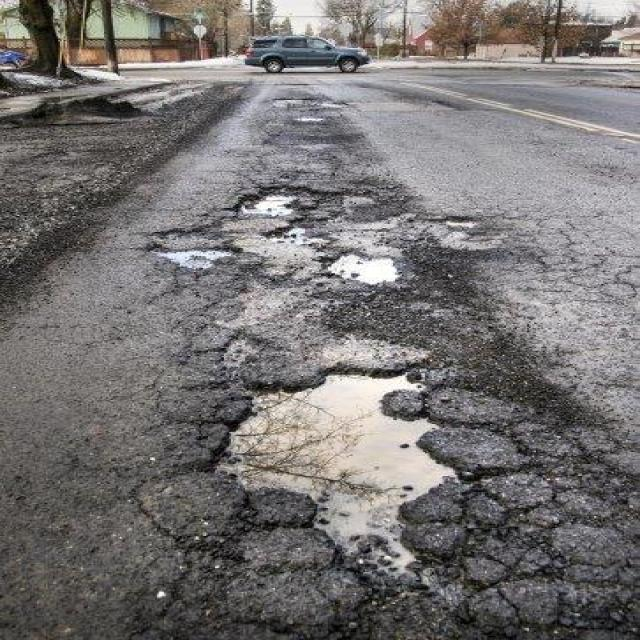jalan retak: (448, 391, 640, 636), (420, 183, 640, 319)
lubang: (138, 342, 630, 638), (215, 169, 404, 230), (314, 238, 441, 308), (137, 218, 266, 286), (424, 196, 510, 239), (263, 88, 342, 128)
